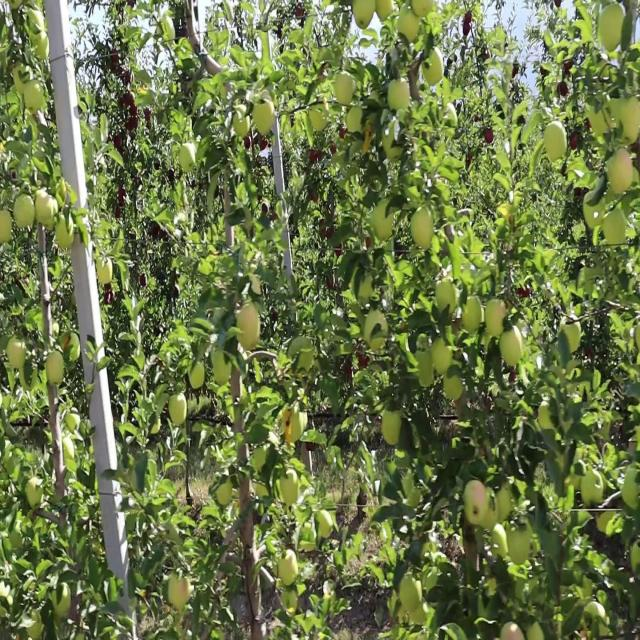apple: (608, 149, 635, 197), (236, 305, 261, 354), (600, 7, 625, 52), (464, 483, 490, 526), (412, 206, 435, 251), (500, 327, 524, 368), (620, 99, 640, 146), (36, 191, 58, 233), (232, 476, 255, 516), (252, 99, 276, 135), (604, 213, 628, 249), (544, 127, 567, 164), (388, 78, 411, 114), (432, 341, 455, 377), (436, 277, 459, 313), (168, 575, 190, 612), (488, 298, 508, 338), (368, 312, 388, 352), (588, 106, 611, 140), (424, 49, 444, 87), (212, 348, 233, 384), (384, 127, 403, 164), (376, 206, 395, 242), (384, 412, 403, 448), (464, 298, 483, 334), (352, 0, 376, 28), (584, 200, 607, 229), (280, 554, 300, 587), (280, 476, 300, 507), (232, 106, 251, 137), (400, 14, 420, 43), (24, 85, 44, 114), (16, 199, 35, 228), (56, 220, 75, 249), (336, 78, 355, 107), (52, 590, 71, 619), (8, 341, 25, 370), (444, 376, 464, 400), (48, 355, 64, 384), (172, 398, 188, 427), (348, 106, 364, 135), (64, 334, 80, 363), (284, 412, 297, 446), (312, 106, 327, 135), (360, 28, 379, 50), (284, 405, 294, 446), (192, 362, 206, 391), (0, 213, 13, 244), (412, 0, 431, 21), (540, 405, 554, 432), (36, 35, 49, 64), (376, 0, 393, 21), (56, 177, 68, 206), (180, 149, 195, 172), (96, 263, 112, 284), (28, 483, 42, 507), (496, 206, 512, 224), (504, 625, 523, 639), (220, 483, 232, 505), (69, 341, 80, 363), (68, 184, 79, 206), (128, 113, 140, 133), (516, 284, 532, 299), (280, 113, 292, 133), (68, 412, 77, 434), (556, 85, 569, 100), (484, 127, 495, 144), (464, 14, 472, 36), (64, 440, 73, 459), (64, 334, 72, 354), (360, 355, 370, 370), (41, 369, 48, 389), (128, 92, 135, 112), (112, 56, 120, 73), (144, 106, 152, 123), (152, 419, 161, 434), (128, 106, 139, 117), (116, 135, 123, 151), (572, 135, 580, 149), (296, 7, 304, 20), (120, 191, 126, 206), (140, 277, 148, 288), (120, 99, 127, 108)
